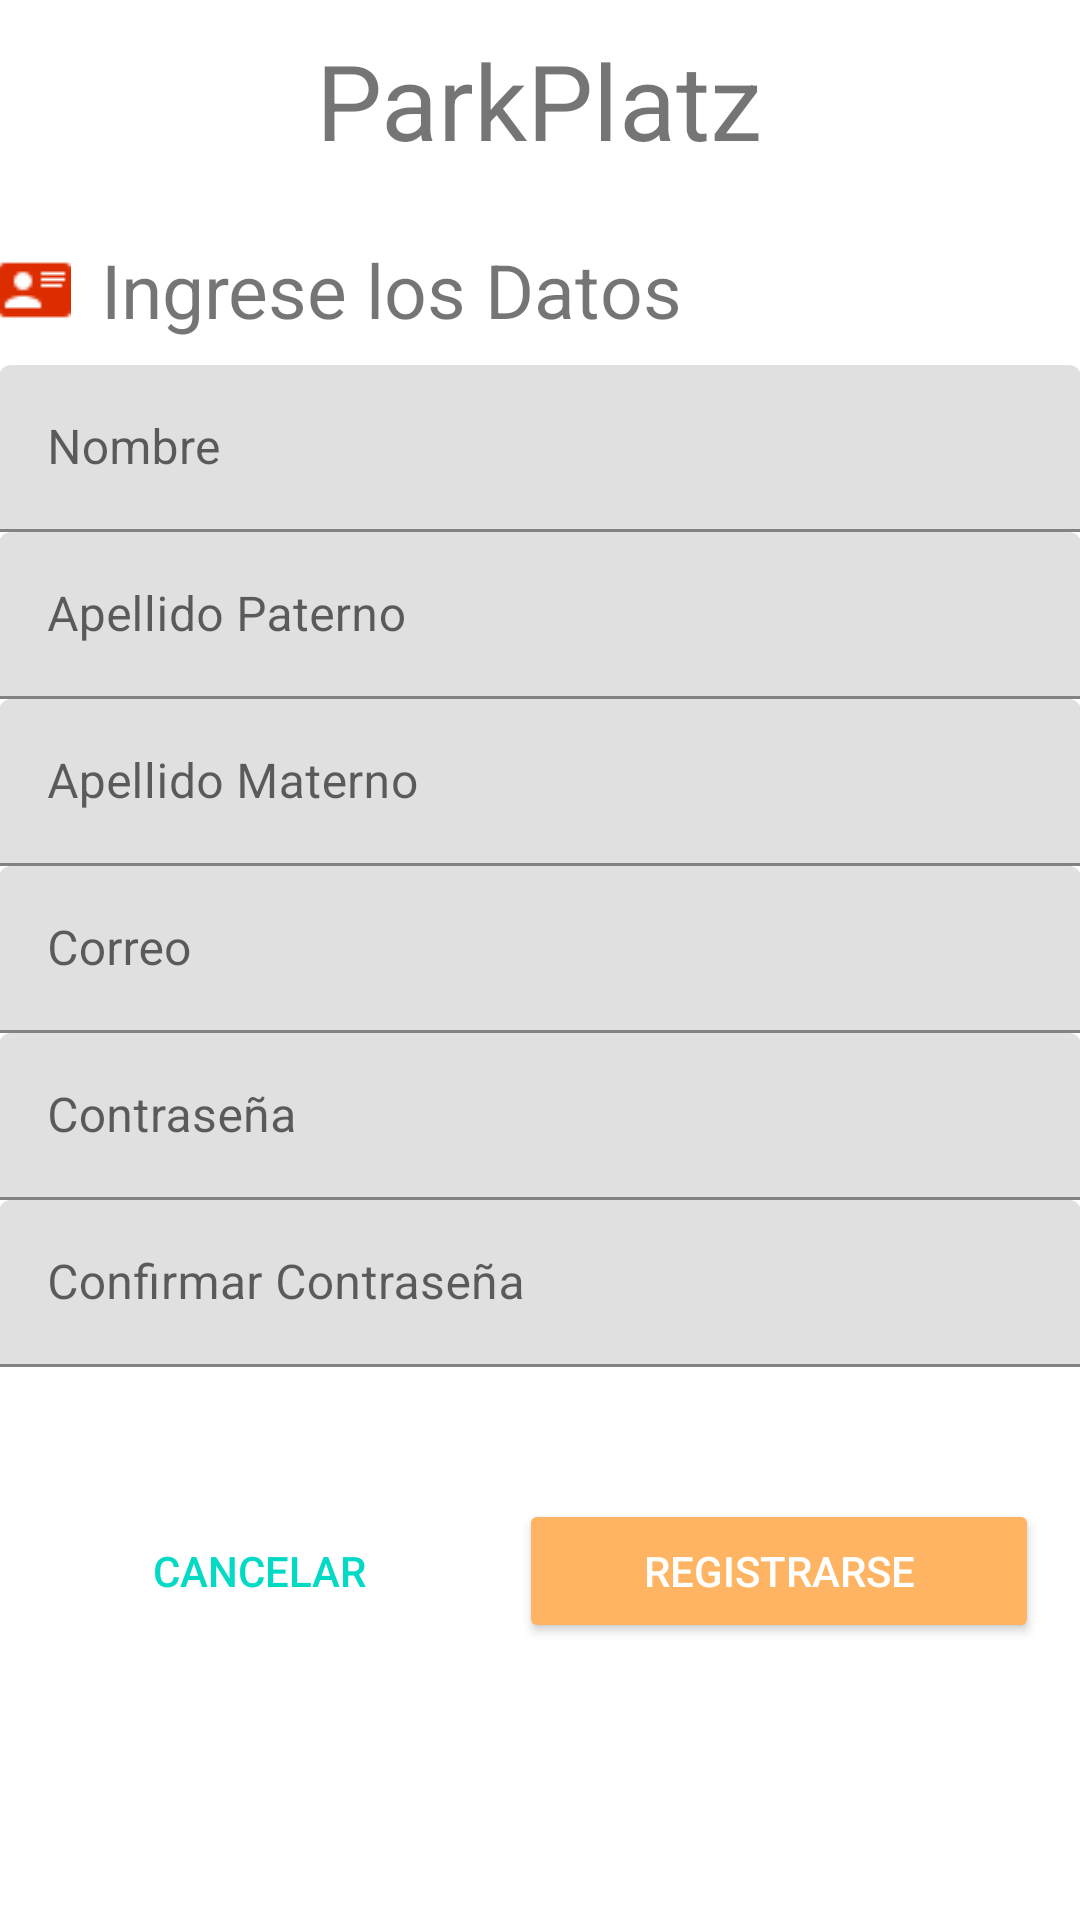

Screen size 1080w x 1920h. Icon name, then its box in pixels as (x1, y1, x2, y2):
log cliente: (0, 262, 71, 318)
